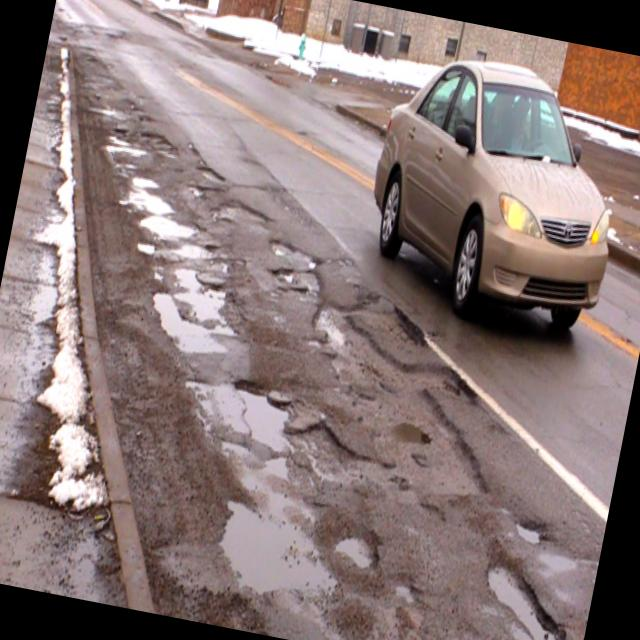Potholes: (38, 114, 382, 606), (452, 504, 598, 640), (255, 198, 338, 316), (321, 496, 409, 602)
